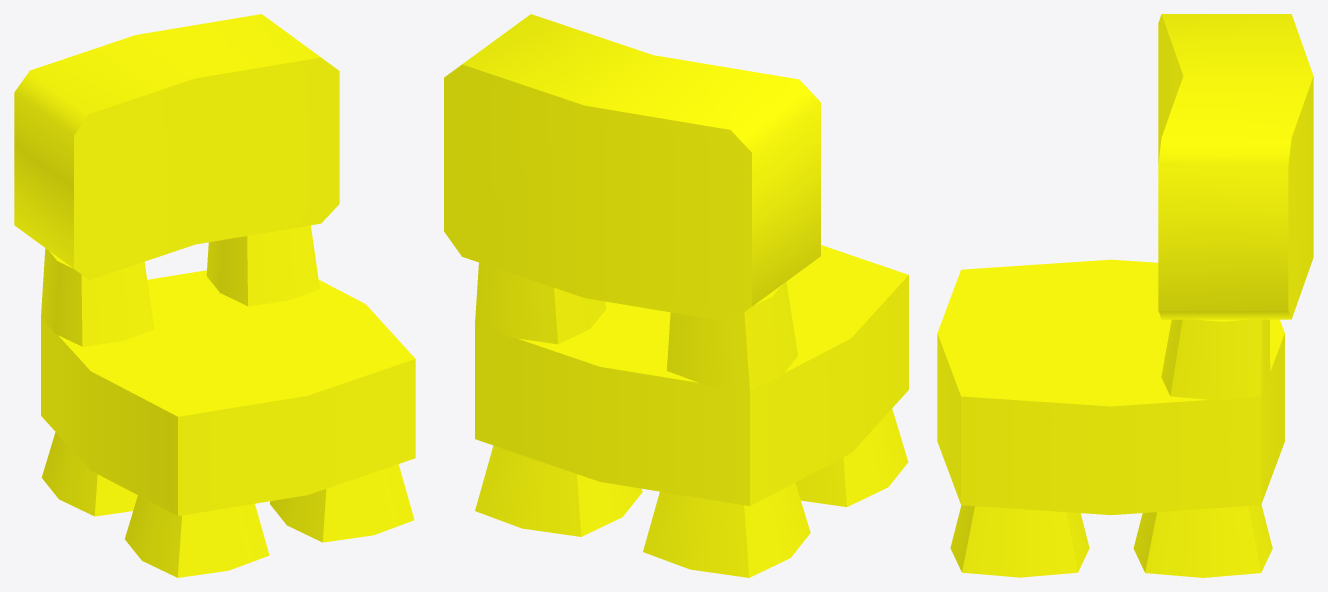
The picture shows the model from 3 angles, left to right: view 1: azimuth 30°, elevation 25°; view 2: azimuth 150°, elevation 25°; view 3: azimuth 270°, elevation 25°; orthographic projection. The views are drawn at different scales.
Visible parts, largest first — view 1: chair; view 2: chair; view 3: chair.
Boxes of the visible parts, x1,y1,x2,y2 form: chair: (14,14,415,577); chair: (444,14,908,577); chair: (937,14,1313,577).
Bounding box in the file's own units: 0.3465 × 0.4773 × 0.3751.
Materials: 1 (1 with a texture image).
